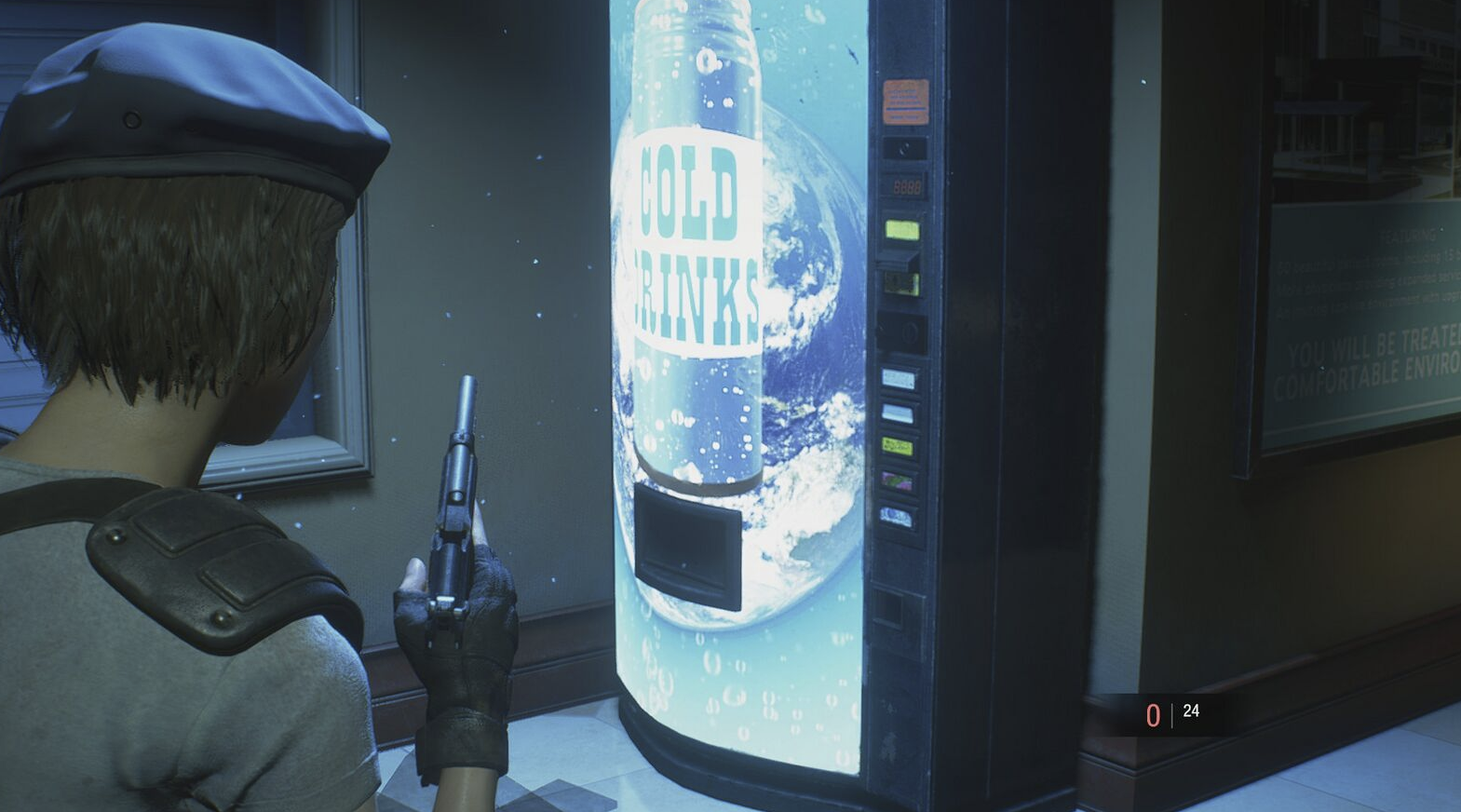gun_015: (412, 367, 486, 657)
